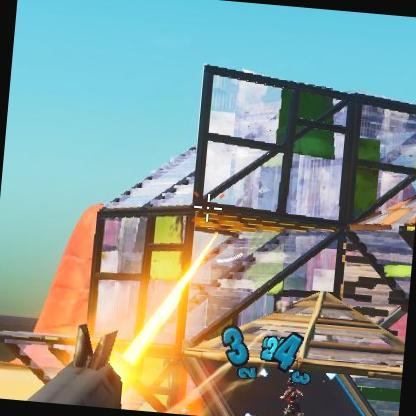person: (276, 378, 308, 416), (245, 178, 266, 210)
